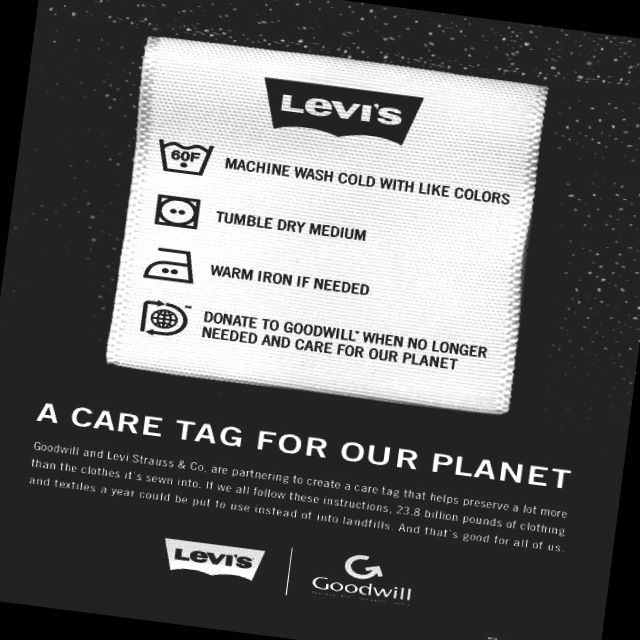30C: (153, 130, 218, 182)
iron_medium: (140, 240, 202, 290)
tumble_dry_medium: (148, 191, 207, 235)
